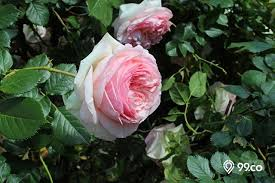rose: (72, 31, 158, 143)
